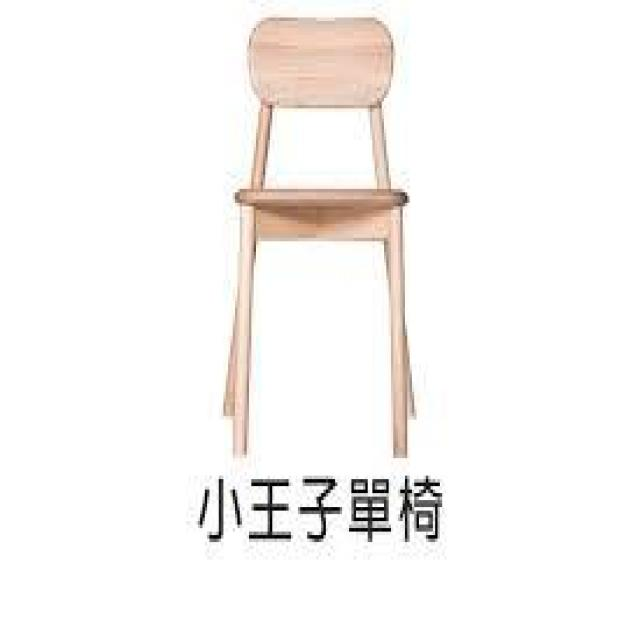chair: (212, 7, 428, 465)
